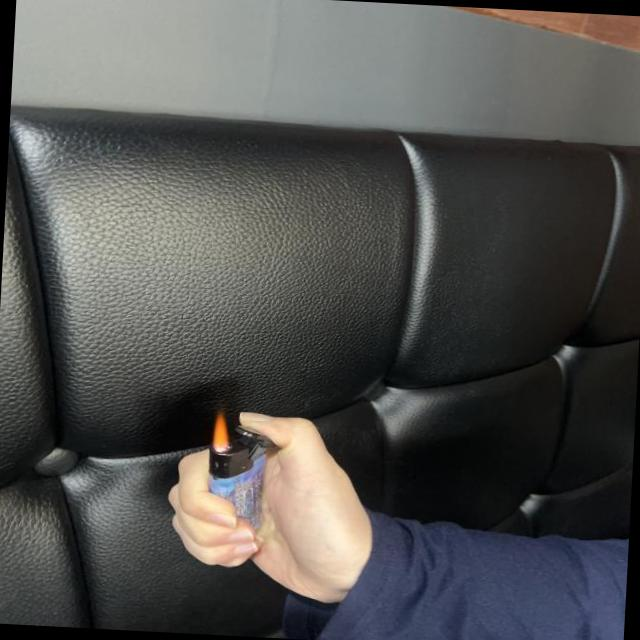Fire: (211, 412, 232, 452)
